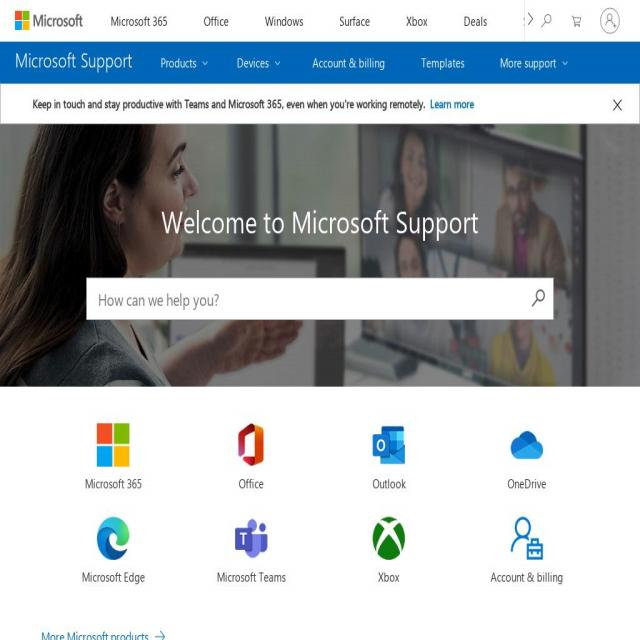navigation-blocks: (74, 413, 590, 605)
navigation-links: (108, 2, 588, 93)
search: (80, 268, 564, 334), (529, 5, 560, 35)
